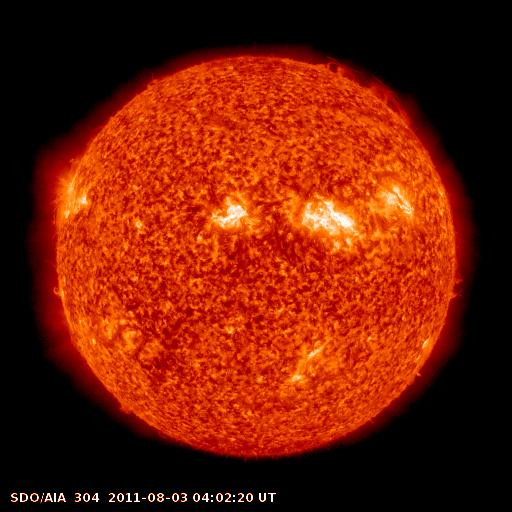prominence: (364, 74, 417, 125), (311, 52, 356, 82)
